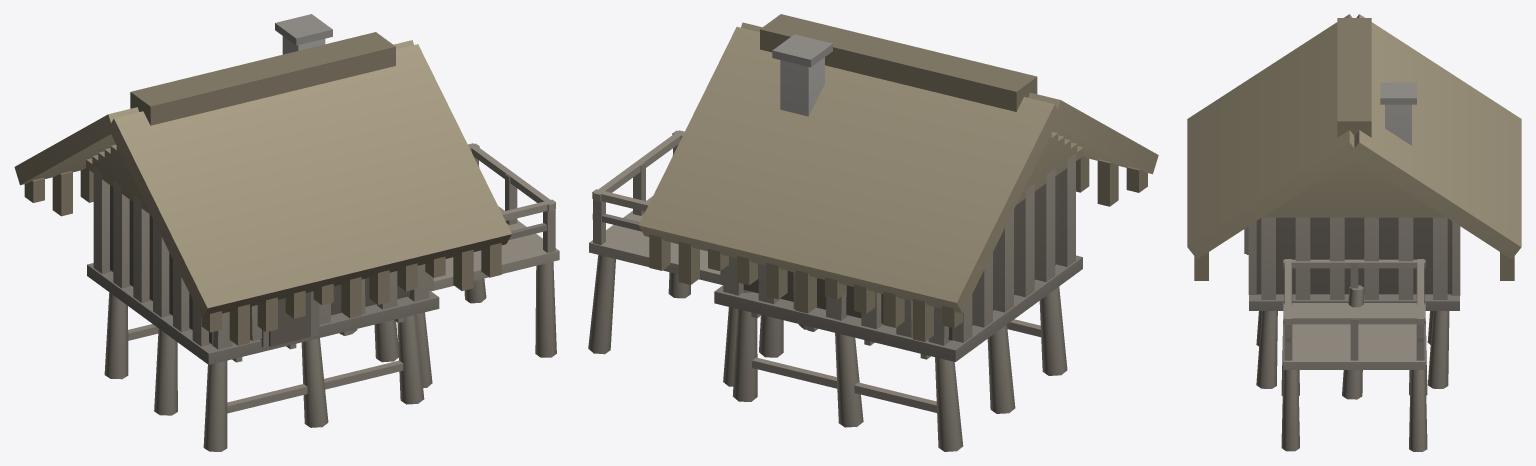
Rendered from hut.glb.
3 renders of one model, left to right at view 1: azimuth 30°, elevation 25°; view 2: azimuth 150°, elevation 25°; view 3: azimuth 270°, elevation 25°, orthographic. The views are drawn at different scales.
Parts seen in each view (by area): view 1: hut; view 2: hut; view 3: hut.
Boxes of the visible parts, x1,y1,x2,y2 form: hut: (14,14,559,451); hut: (588,14,1158,451); hut: (1187,14,1521,451).
Size of the model in its own units: 8.34 by 6.35 by 6.82.
